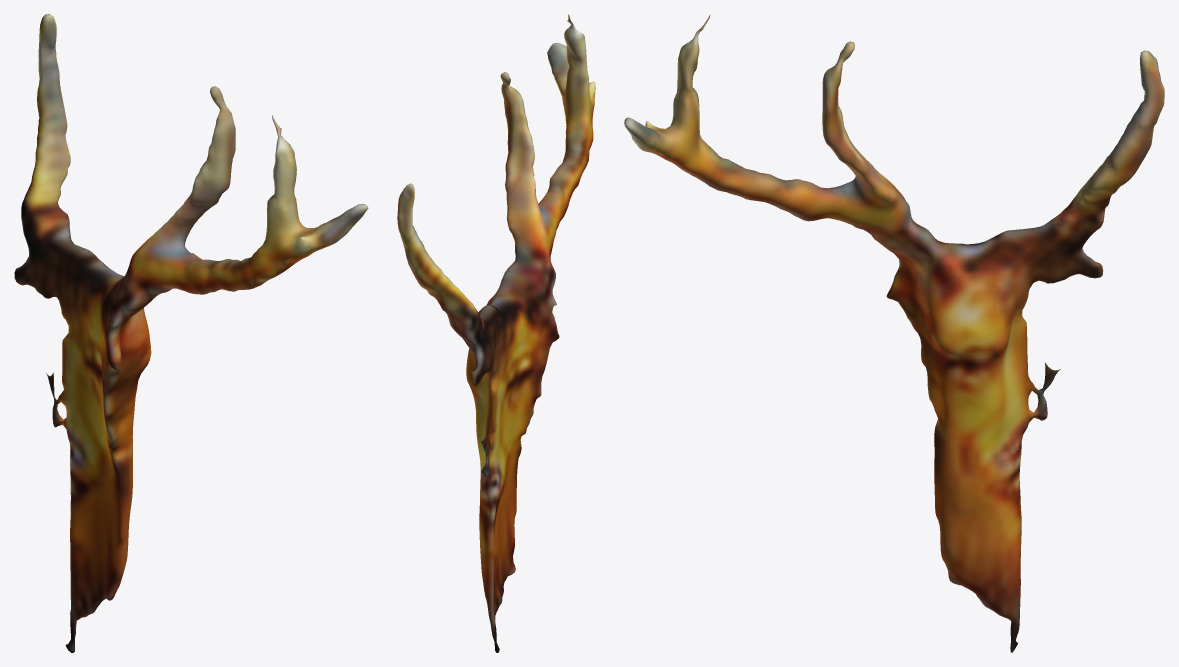
The model's file is right-wall.glb.
3 views of the same model, side by side, from view 1: azimuth 30°, elevation 25°; view 2: azimuth 150°, elevation 25°; view 3: azimuth 270°, elevation 25° (orthographic). The views are drawn at different scales.
Visible parts, largest first — view 1: tripo_node_7a2566fe-68f0-41ce-ad35-24d3cdb0e27c; view 2: tripo_node_7a2566fe-68f0-41ce-ad35-24d3cdb0e27c; view 3: tripo_node_7a2566fe-68f0-41ce-ad35-24d3cdb0e27c.
Part boxes in pixels (x1,y1,x2,y2): tripo_node_7a2566fe-68f0-41ce-ad35-24d3cdb0e27c: (14,14,368,652); tripo_node_7a2566fe-68f0-41ce-ad35-24d3cdb0e27c: (397,14,595,652); tripo_node_7a2566fe-68f0-41ce-ad35-24d3cdb0e27c: (624,14,1164,652).
Size of the model in its own units: 0.1037 by 0.4628 by 0.3387.
1 material, 1 textured.
